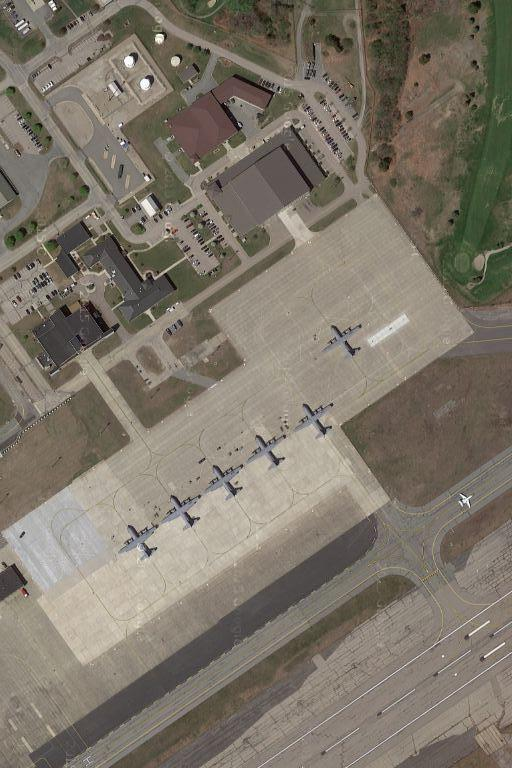C-130: (117, 520, 161, 566), (201, 460, 248, 503), (158, 490, 206, 531), (245, 429, 289, 471), (295, 399, 338, 441), (321, 322, 366, 361)
